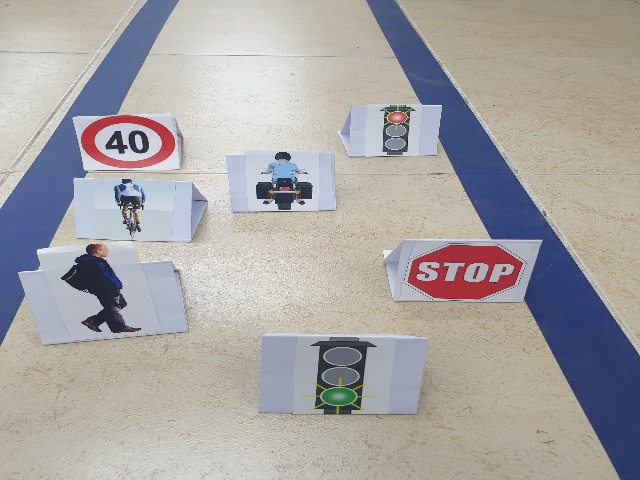Cyclist: (110, 179, 151, 239)
Green Light: (308, 336, 373, 414)
Limit 40: (79, 117, 176, 168)
Motorcycle: (254, 153, 315, 209)
Person: (65, 244, 141, 339)
Red Light: (376, 103, 417, 156)
Stop: (406, 244, 527, 303)
